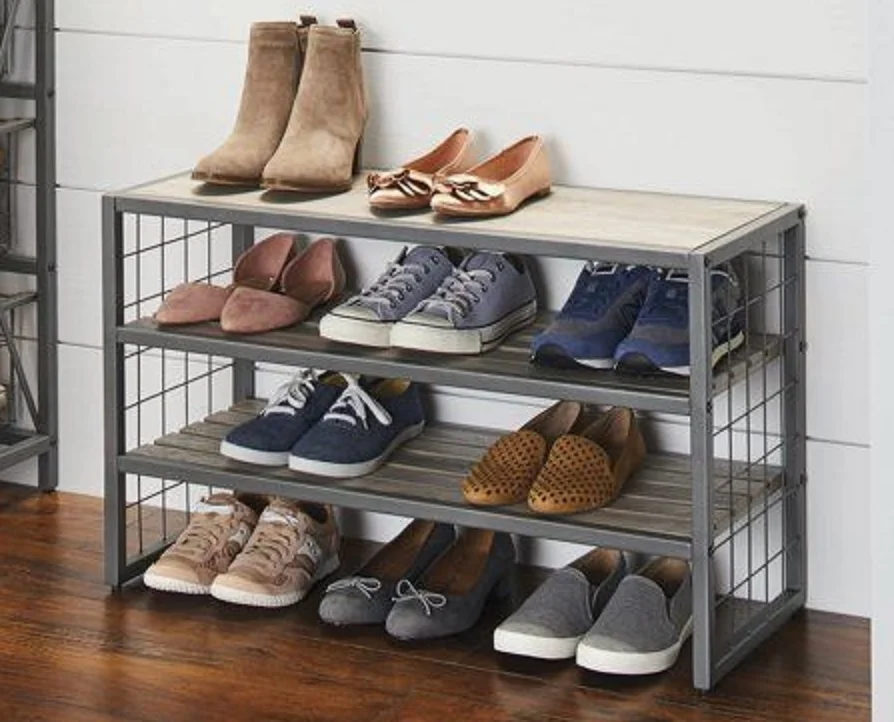sepatu: (483, 535, 727, 681), (191, 5, 364, 196), (311, 491, 517, 650), (534, 240, 750, 381), (128, 205, 332, 353), (135, 468, 344, 612), (320, 229, 531, 361), (219, 352, 431, 483), (465, 387, 647, 520), (363, 106, 558, 223)
